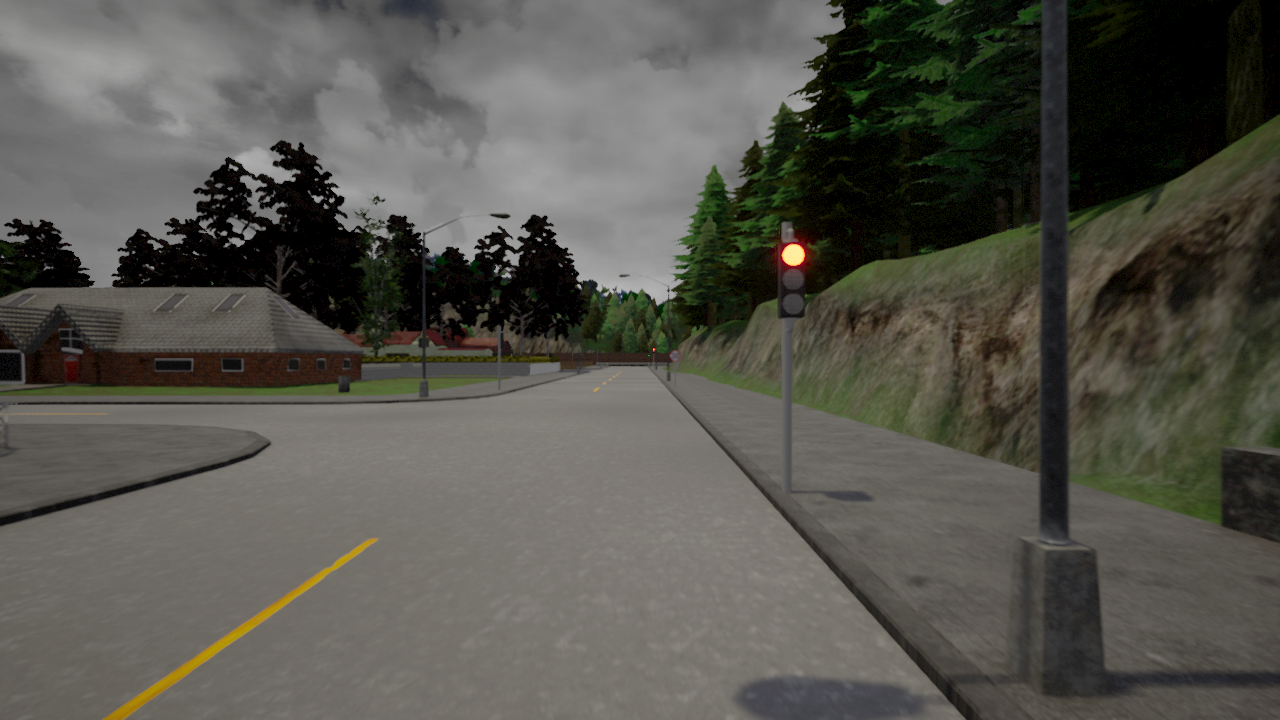red: (772, 239, 808, 320)
